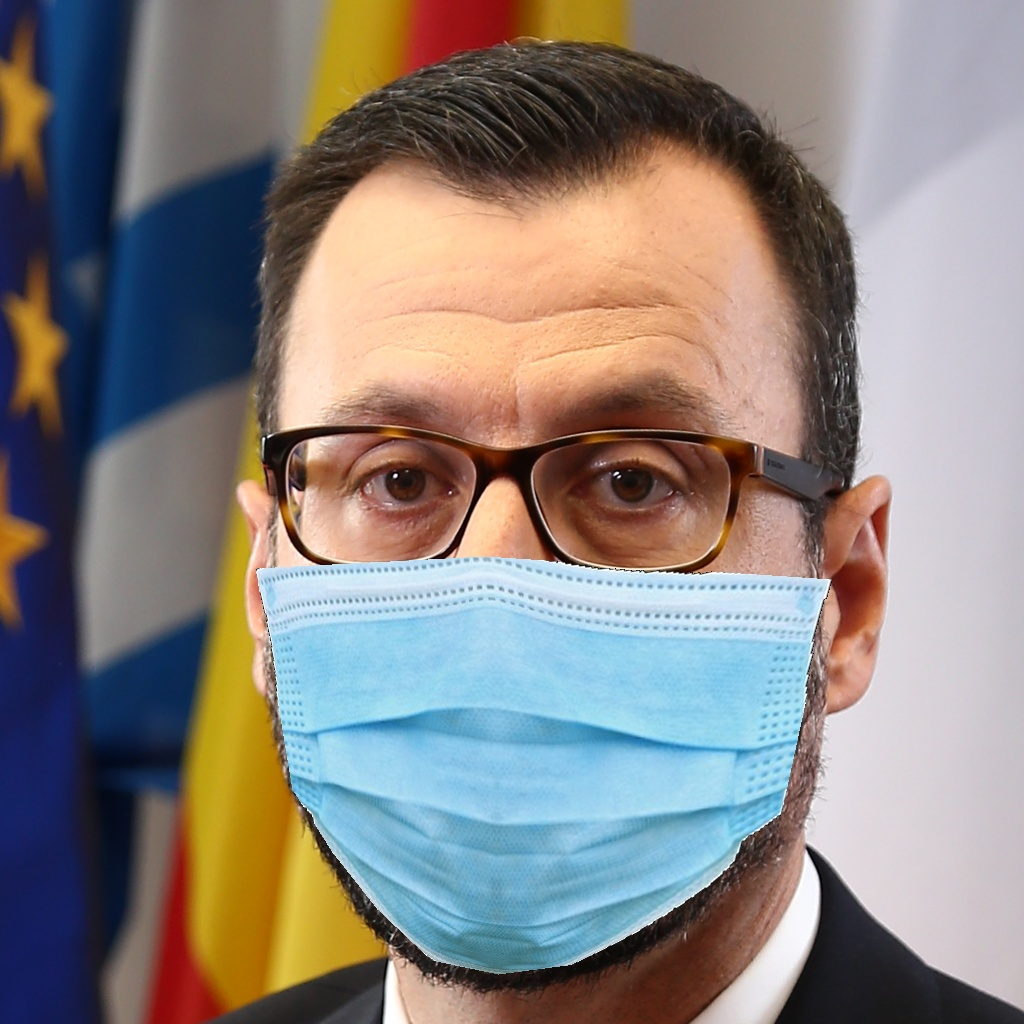Mask: (251, 374, 801, 966)
